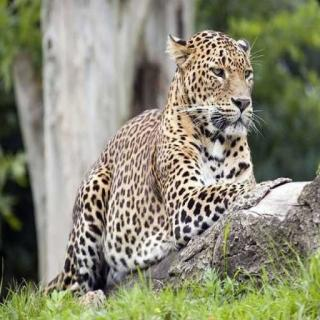Leopard: (66, 31, 299, 301)
